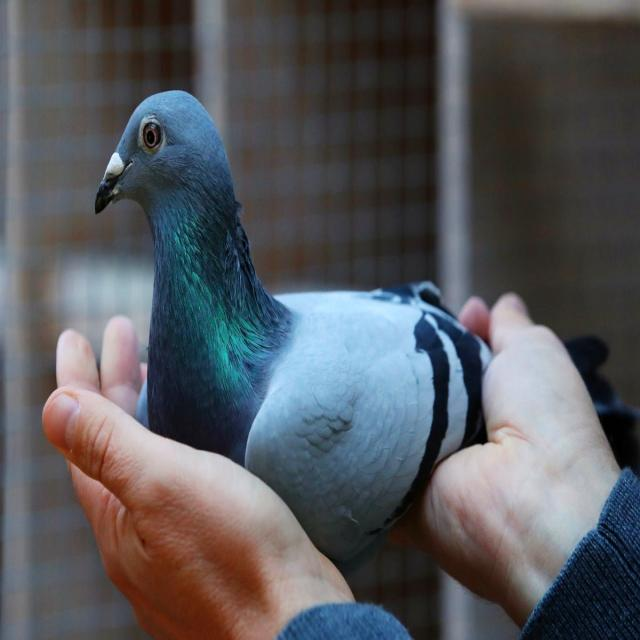pigeon: (95, 91, 491, 573)
